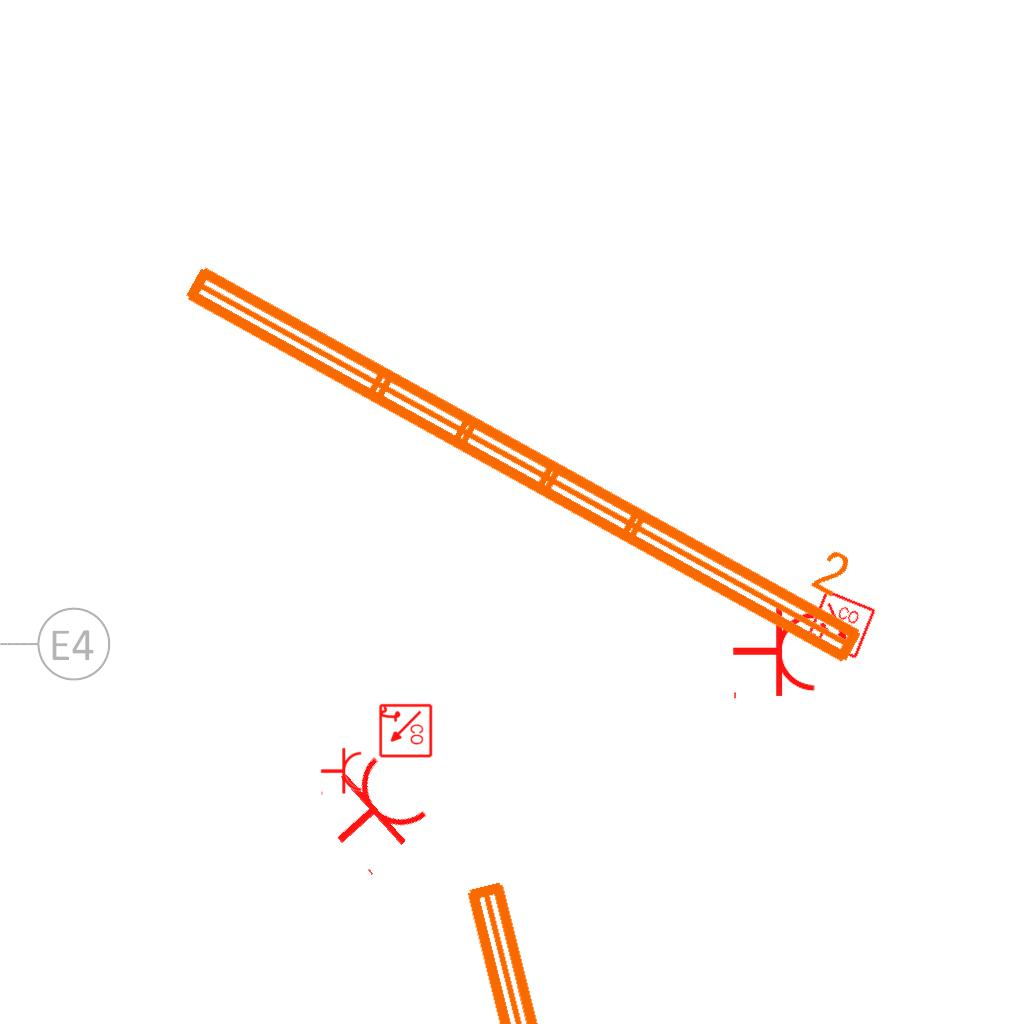Ambulanz_Pendelleuchte_LED: (169, 205, 901, 679), (452, 855, 748, 1024)
ROA_Rauchmelder_optisch_mit_Signalgeber_(Sockelsirene): (804, 588, 878, 662), (377, 703, 433, 759)
Schukosteckdose_einfach: (305, 747, 438, 881), (731, 603, 818, 703), (320, 747, 363, 797)
